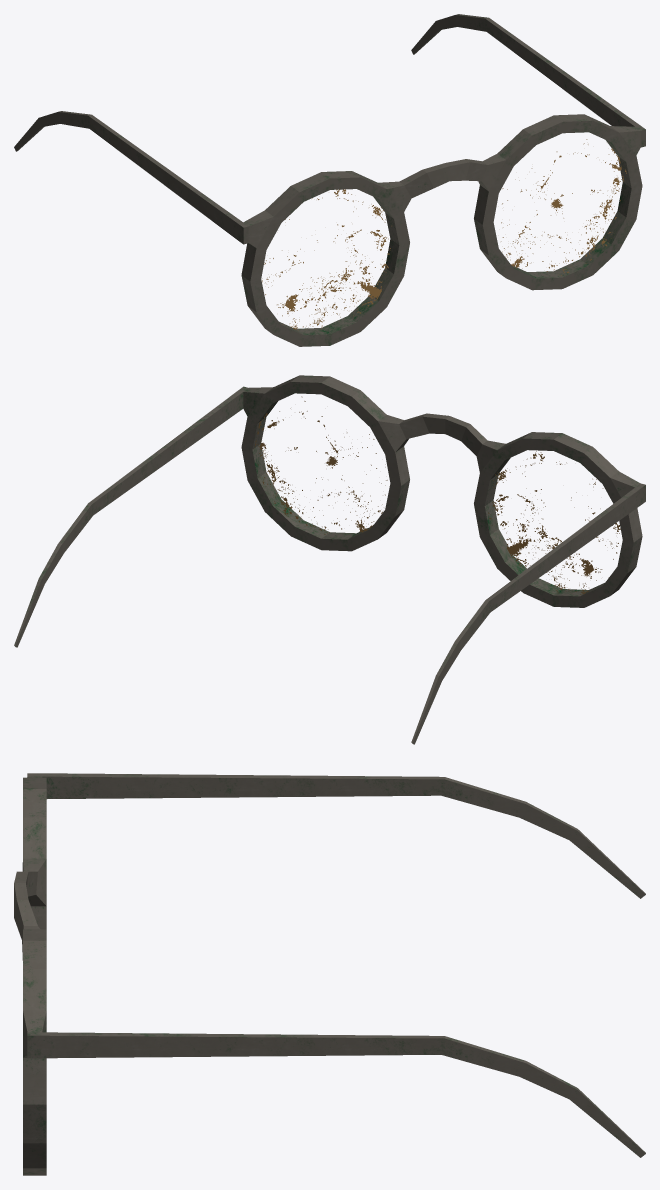
Rendered from glasses.obj.
3 renders of one model, top to bottom at view 1: azimuth 30°, elevation 25°; view 2: azimuth 150°, elevation 25°; view 3: azimuth 270°, elevation 25°, orthographic. The views are drawn at different scales.
Parts seen in each view (by area): view 1: glasses_Cylinder; view 2: glasses_Cylinder; view 3: glasses_Cylinder.
Boxes of the visible parts, x1,y1,x2,y2 form: glasses_Cylinder: (14, 14, 645, 346); glasses_Cylinder: (14, 375, 645, 744); glasses_Cylinder: (14, 773, 645, 1175).
Size of the model in its own units: 0.11 by 0.0437 by 0.1119.
